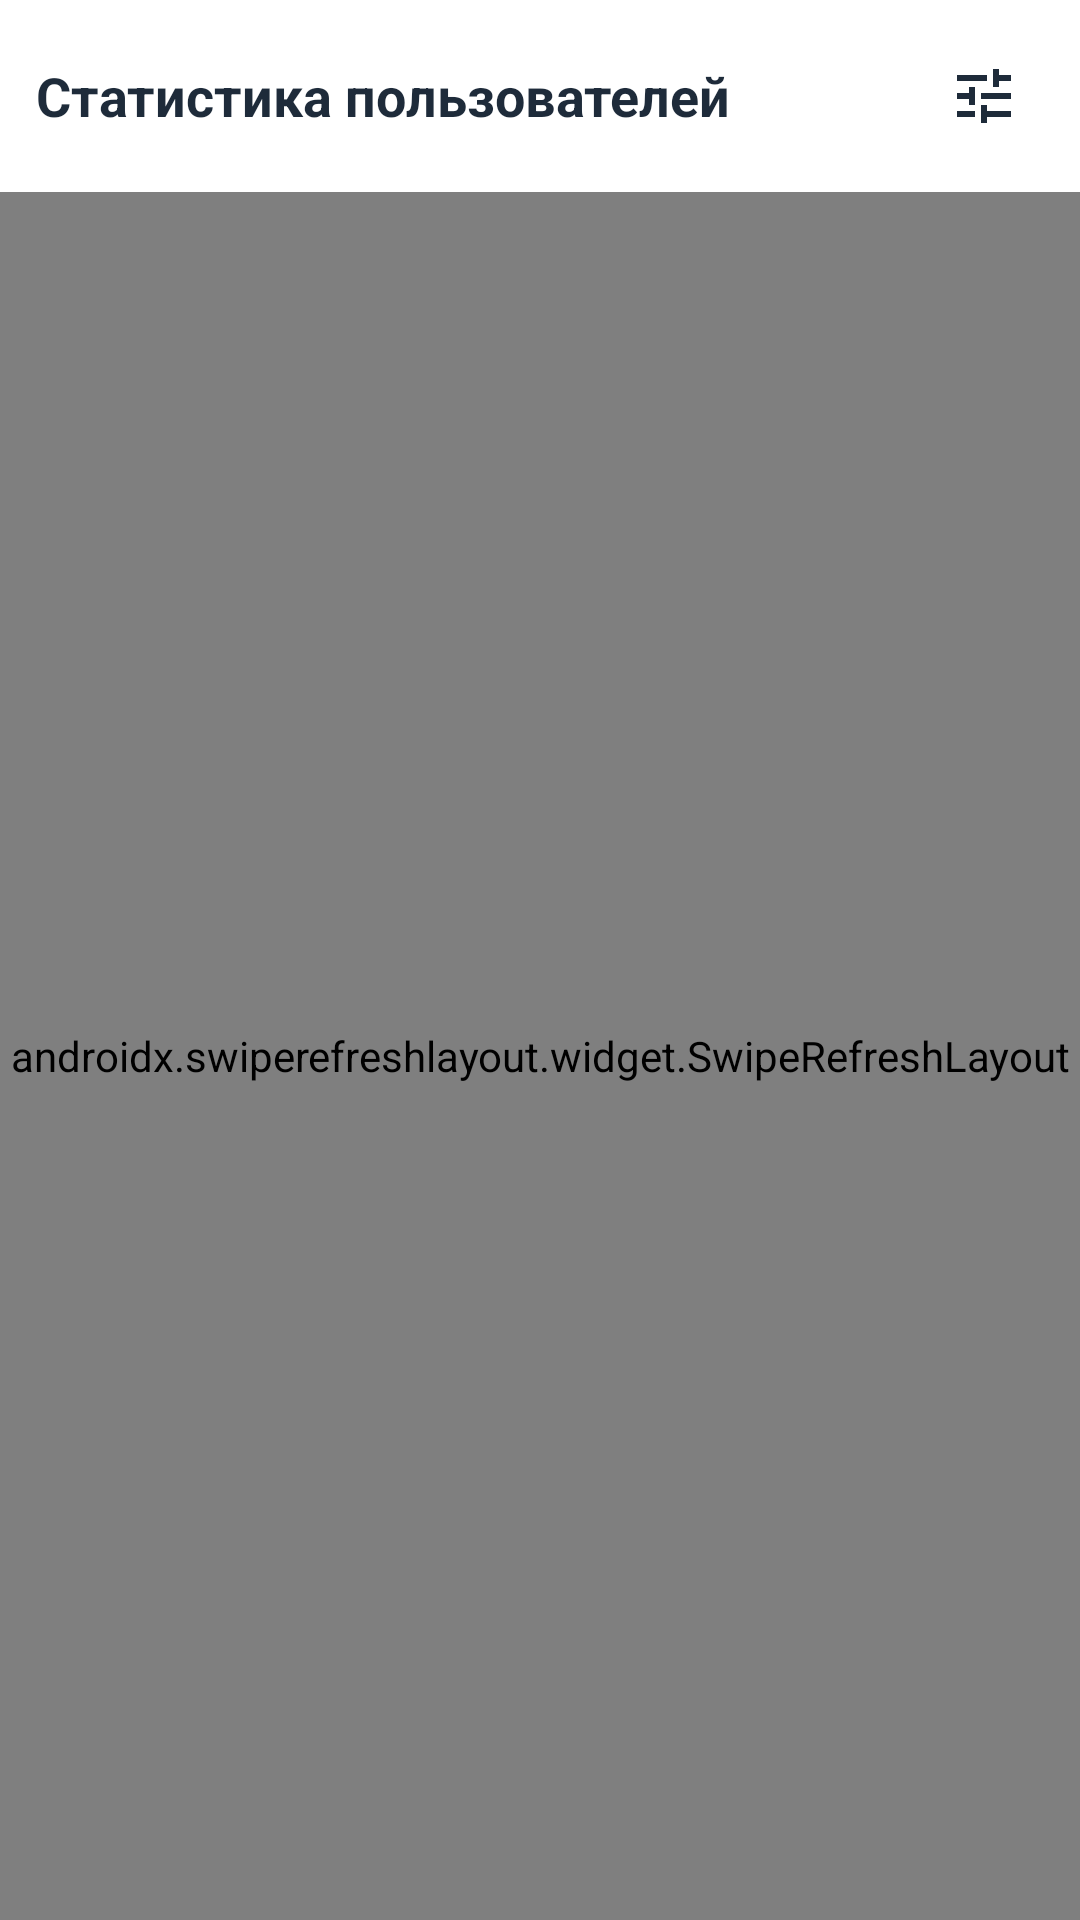

Screen size 1080px×1920px. Icon name, then its center in pixels as [x,y]:
Фильтр: [984,96]
